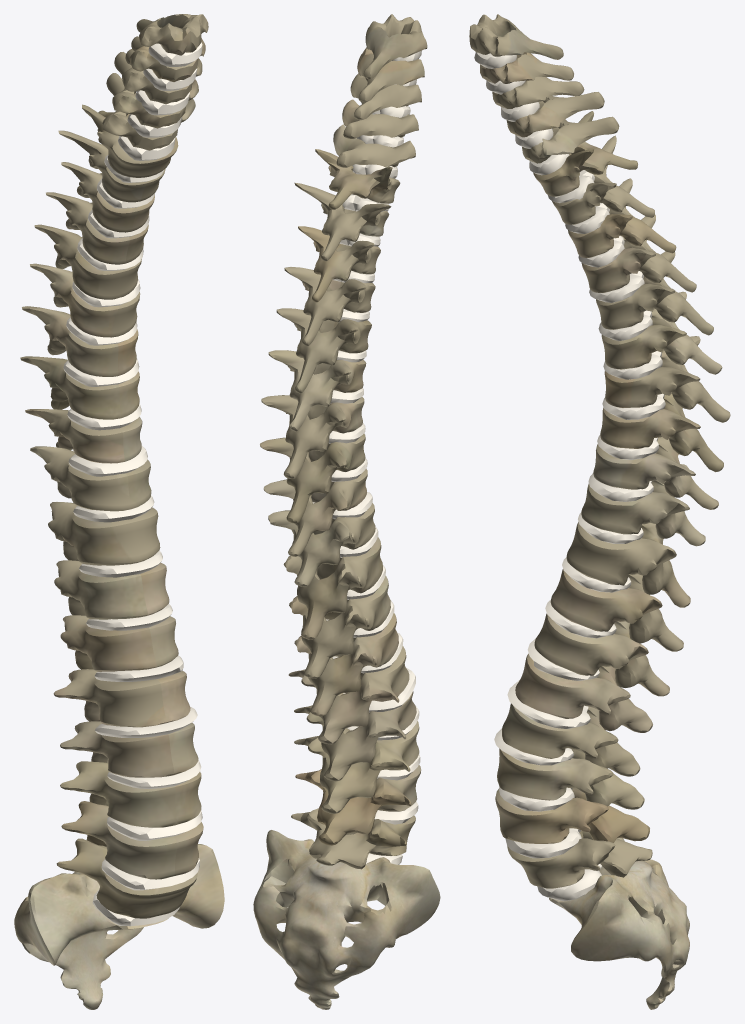
3 renders of one model, left to right at view 1: azimuth 30°, elevation 25°; view 2: azimuth 150°, elevation 25°; view 3: azimuth 270°, elevation 25°, orthographic. The views are drawn at different scales.
Visible parts, largest first — view 1: Male_Skel+Male_Sk.114, Male_Skel+Male_Sk.182, Male_Skel+Male_Sk.115, Male_Skel+Male_Sk.117, Male_Skel+Male_Sk.118, Male_Skel+Male_Sk.187, Male_Skel+Male_Sk.188, Male_Skel+Male_Sk.189, Male_Skel+Male_Sk.116, Male_Skel+Male_Sk.186, Male_Skel+Male_Sk.119, Male_Skel+Male_Sk.184 (+13 smaller); view 2: Male_Skel+Male_Sk.182, Male_Skel+Male_Sk.114, Male_Skel+Male_Sk.187, Male_Skel+Male_Sk.188, Male_Skel+Male_Sk.117, Male_Skel+Male_Sk.118, Male_Skel+Male_Sk.189, Male_Skel+Male_Sk.115, Male_Skel+Male_Sk.125, Male_Skel+Male_Sk.116, Male_Skel+Male_Sk.184, Male_Skel+Male_Sk.119 (+13 smaller); view 3: Male_Skel+Male_Sk.114, Male_Skel+Male_Sk.182, Male_Skel+Male_Sk.115, Male_Skel+Male_Sk.187, Male_Skel+Male_Sk.188, Male_Skel+Male_Sk.189, Male_Skel+Male_Sk.118, Male_Skel+Male_Sk.117, Male_Skel+Male_Sk.116, Male_Skel+Male_Sk.186, Male_Skel+Male_Sk.119, Male_Skel+Male_Sk.184 (+13 smaller).
Part boxes in pixels (bbox=[...]): Male_Skel+Male_Sk.114: bbox=[63, 42, 202, 926]; Male_Skel+Male_Sk.182: bbox=[14, 844, 224, 1009]; Male_Skel+Male_Sk.115: bbox=[53, 669, 190, 727]; Male_Skel+Male_Sk.117: bbox=[60, 761, 201, 827]; Male_Skel+Male_Sk.118: bbox=[61, 801, 203, 879]; Male_Skel+Male_Sk.187: bbox=[48, 502, 160, 565]; Male_Skel+Male_Sk.188: bbox=[54, 560, 169, 619]; Male_Skel+Male_Sk.189: bbox=[60, 615, 178, 671]; Male_Skel+Male_Sk.116: bbox=[60, 721, 198, 777]; Male_Skel+Male_Sk.186: bbox=[30, 446, 151, 511]; Male_Skel+Male_Sk.119: bbox=[56, 838, 197, 918]; Male_Skel+Male_Sk.184: bbox=[20, 356, 139, 419]; Male_Skel+Male_Sk.182: bbox=[253, 830, 440, 1009]; Male_Skel+Male_Sk.114: bbox=[312, 50, 421, 864]; Male_Skel+Male_Sk.187: bbox=[283, 537, 382, 639]; Male_Skel+Male_Sk.188: bbox=[289, 576, 390, 678]; Male_Skel+Male_Sk.117: bbox=[294, 721, 419, 813]; Male_Skel+Male_Sk.118: bbox=[295, 765, 421, 845]; Male_Skel+Male_Sk.189: bbox=[294, 613, 398, 716]; Male_Skel+Male_Sk.115: bbox=[288, 646, 409, 744]; Male_Skel+Male_Sk.125: bbox=[261, 395, 364, 478]; Male_Skel+Male_Sk.116: bbox=[294, 691, 416, 781]; Male_Skel+Male_Sk.184: bbox=[260, 433, 365, 523]; Male_Skel+Male_Sk.119: bbox=[291, 808, 415, 869]; Male_Skel+Male_Sk.114: bbox=[474, 52, 665, 901]; Male_Skel+Male_Sk.182: bbox=[549, 838, 689, 1009]; Male_Skel+Male_Sk.115: bbox=[515, 653, 652, 732]; Male_Skel+Male_Sk.187: bbox=[566, 522, 690, 607]; Male_Skel+Male_Sk.188: bbox=[550, 569, 683, 651]; Male_Skel+Male_Sk.189: bbox=[534, 613, 669, 696]; Male_Skel+Male_Sk.118: bbox=[495, 788, 649, 843]; Male_Skel+Male_Sk.117: bbox=[497, 748, 644, 809]; Male_Skel+Male_Sk.116: bbox=[502, 703, 640, 776]; Male_Skel+Male_Sk.186: bbox=[581, 464, 705, 546]; Male_Skel+Male_Sk.119: bbox=[507, 830, 652, 888]; Male_Skel+Male_Sk.184: bbox=[600, 393, 723, 472].
Bounding box in the file's own units: 0.2074 × 1.13 × 0.2695.
3 materials, 2 textured.
